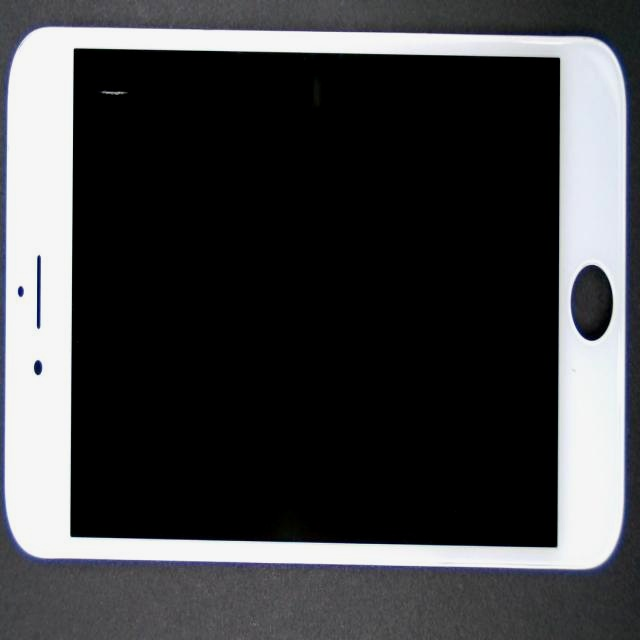scratch: (26, 55, 158, 165)
